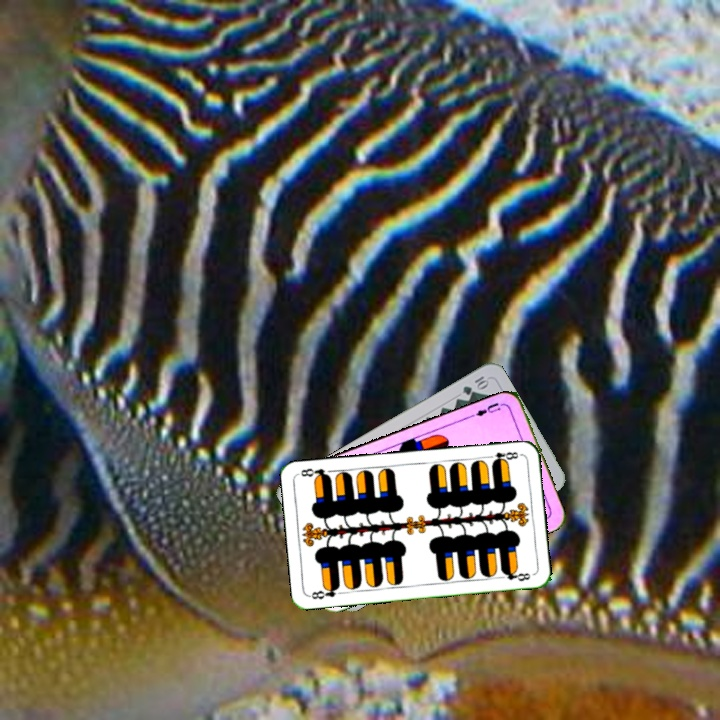E8: (483, 448, 524, 466), (306, 582, 342, 602)
EU: (468, 398, 503, 420)
G10: (458, 372, 492, 398)
